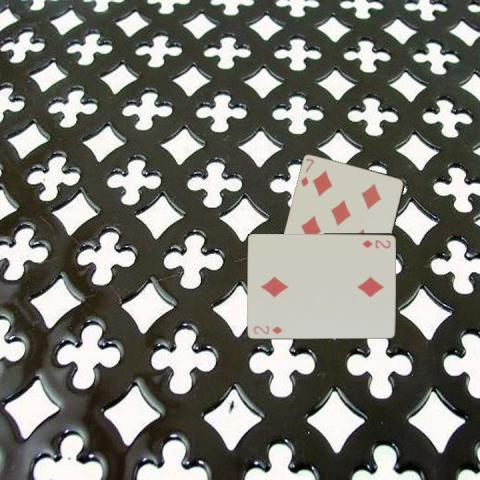2d: (251, 323, 284, 335), (360, 237, 392, 249)
7d: (298, 155, 315, 189)
